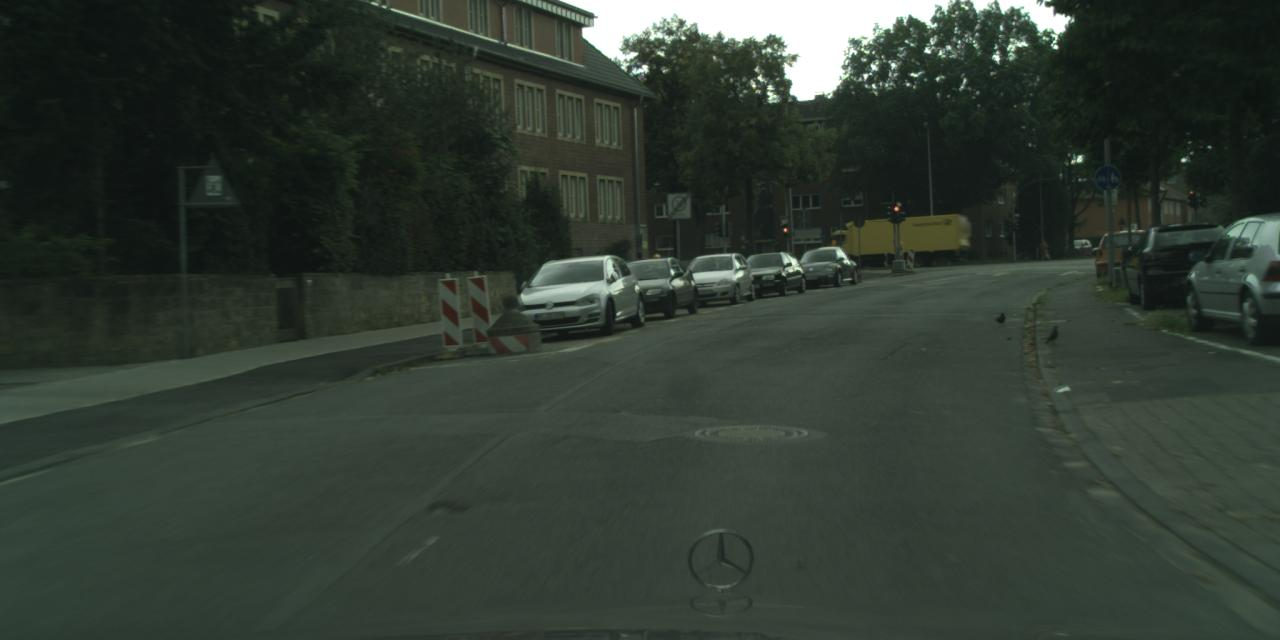ped: (1040, 238, 1048, 259)
